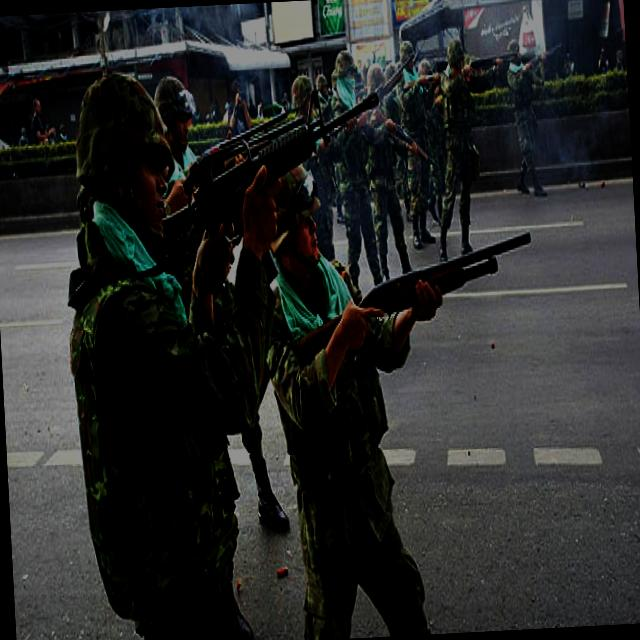m16: (91, 36, 406, 248)
